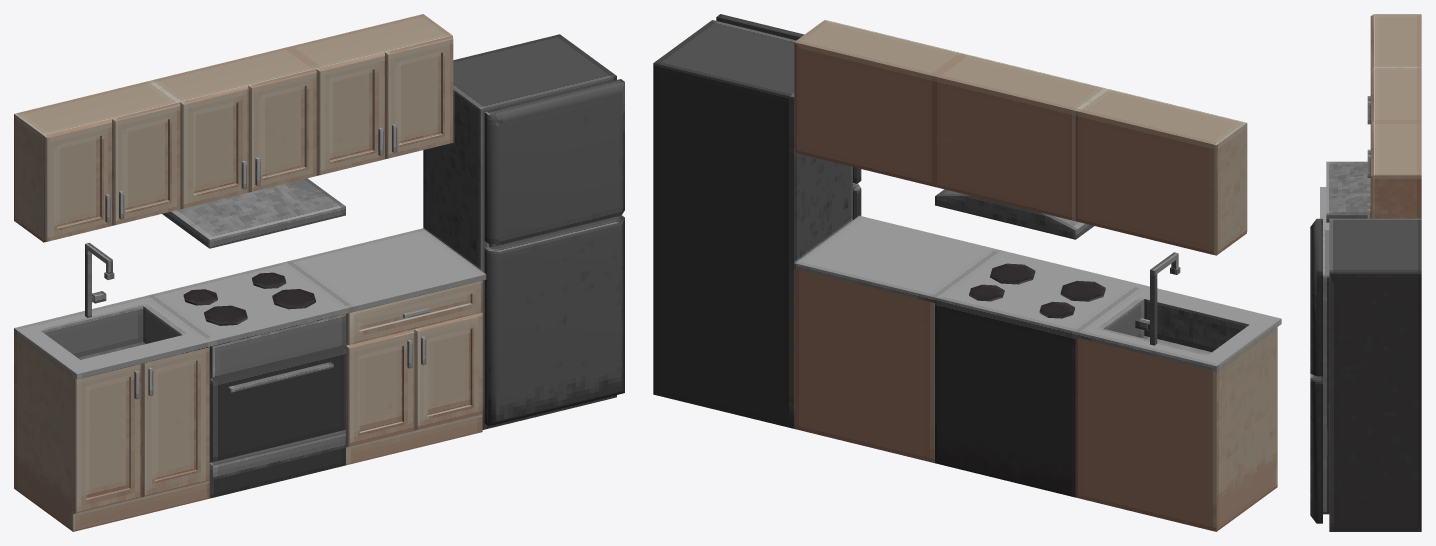
The model's file is room_kitchen.glb.
3 renders of one model, left to right at view 1: azimuth 30°, elevation 25°; view 2: azimuth 150°, elevation 25°; view 3: azimuth 270°, elevation 25°, orthographic. The views are drawn at different scales.
Visible parts, largest first — view 1: mesh; view 2: mesh; view 3: mesh.
Part boxes in pixels (left/top/right/bottom): mesh: left=14, top=14, right=624, bottom=531; mesh: left=653, top=14, right=1281, bottom=531; mesh: left=1310, top=14, right=1421, bottom=531.
Size of the model in its own units: 1.72 by 1.13 by 0.3767.
1 material, 1 textured.
